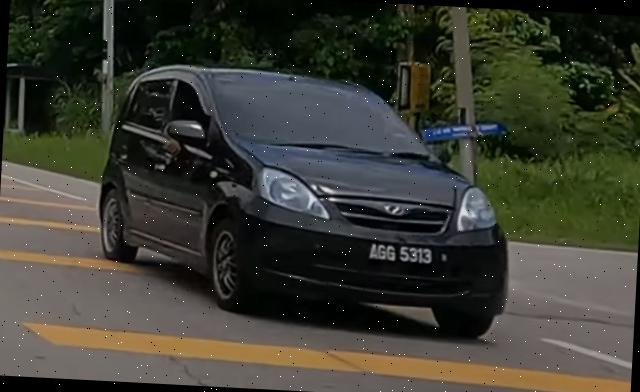License_Plate: (367, 241, 437, 268)
car: (92, 60, 521, 340)
